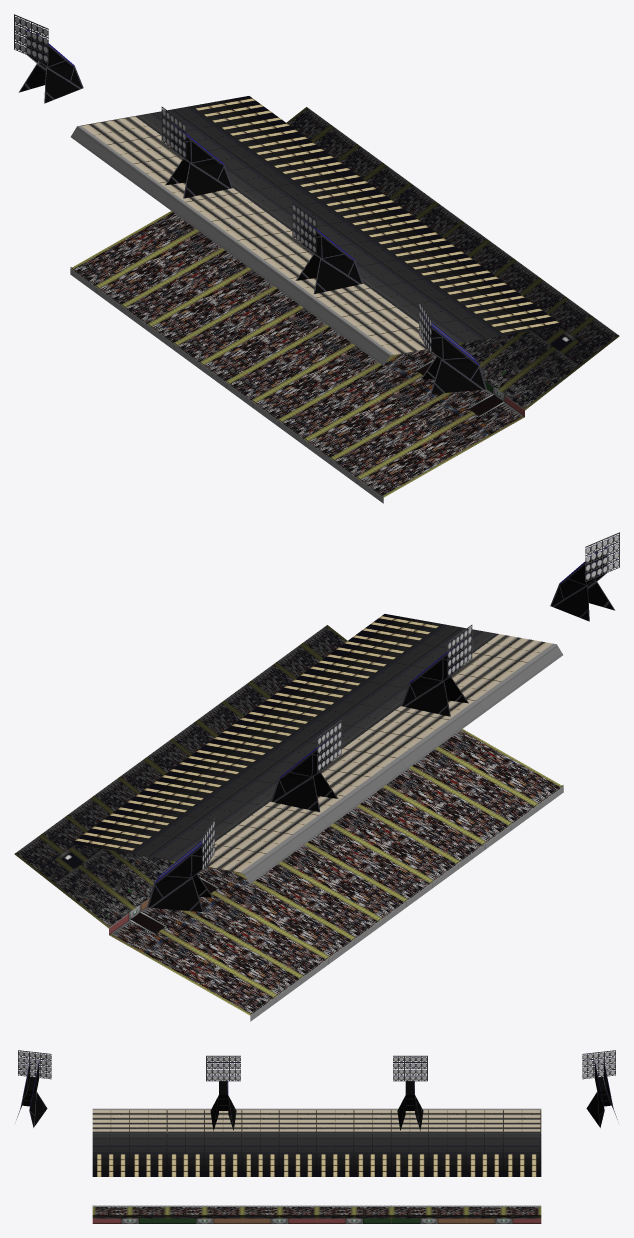
3 renders of one model, top to bottom at view 1: azimuth 30°, elevation 25°; view 2: azimuth 150°, elevation 25°; view 3: azimuth 270°, elevation 25°, orthographic. The views are drawn at different scales.
Bounding box in the file's own units: 41.05 × 36.43 × 125.
Materials: 12 (12 with a texture image).
